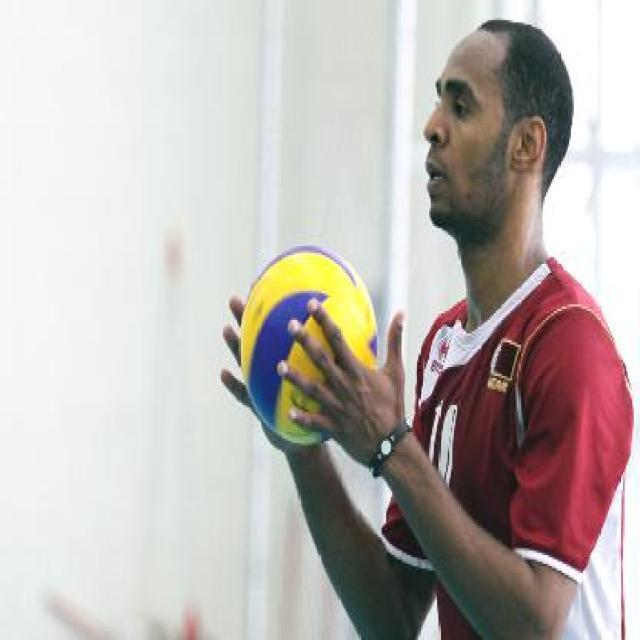volleyball: (240, 244, 376, 446)
